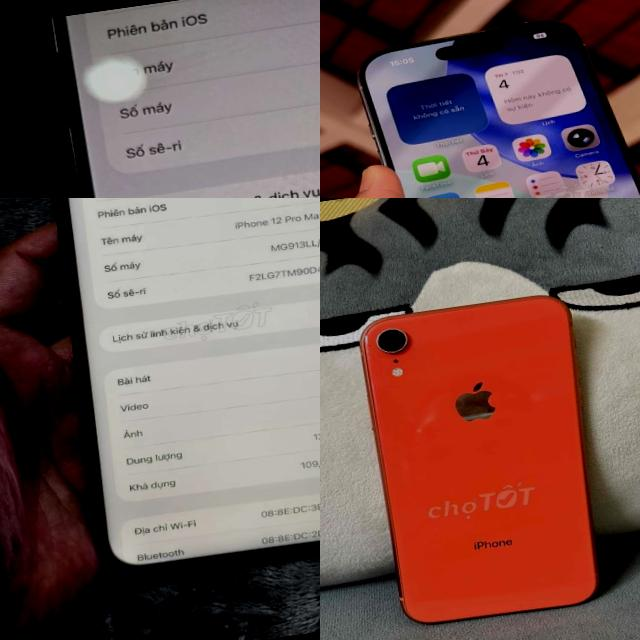gen_12_13: (30, 198, 320, 596)
gen_16: (336, 2, 640, 198), (55, 0, 320, 198)
gen_x_xs: (341, 277, 635, 640)
